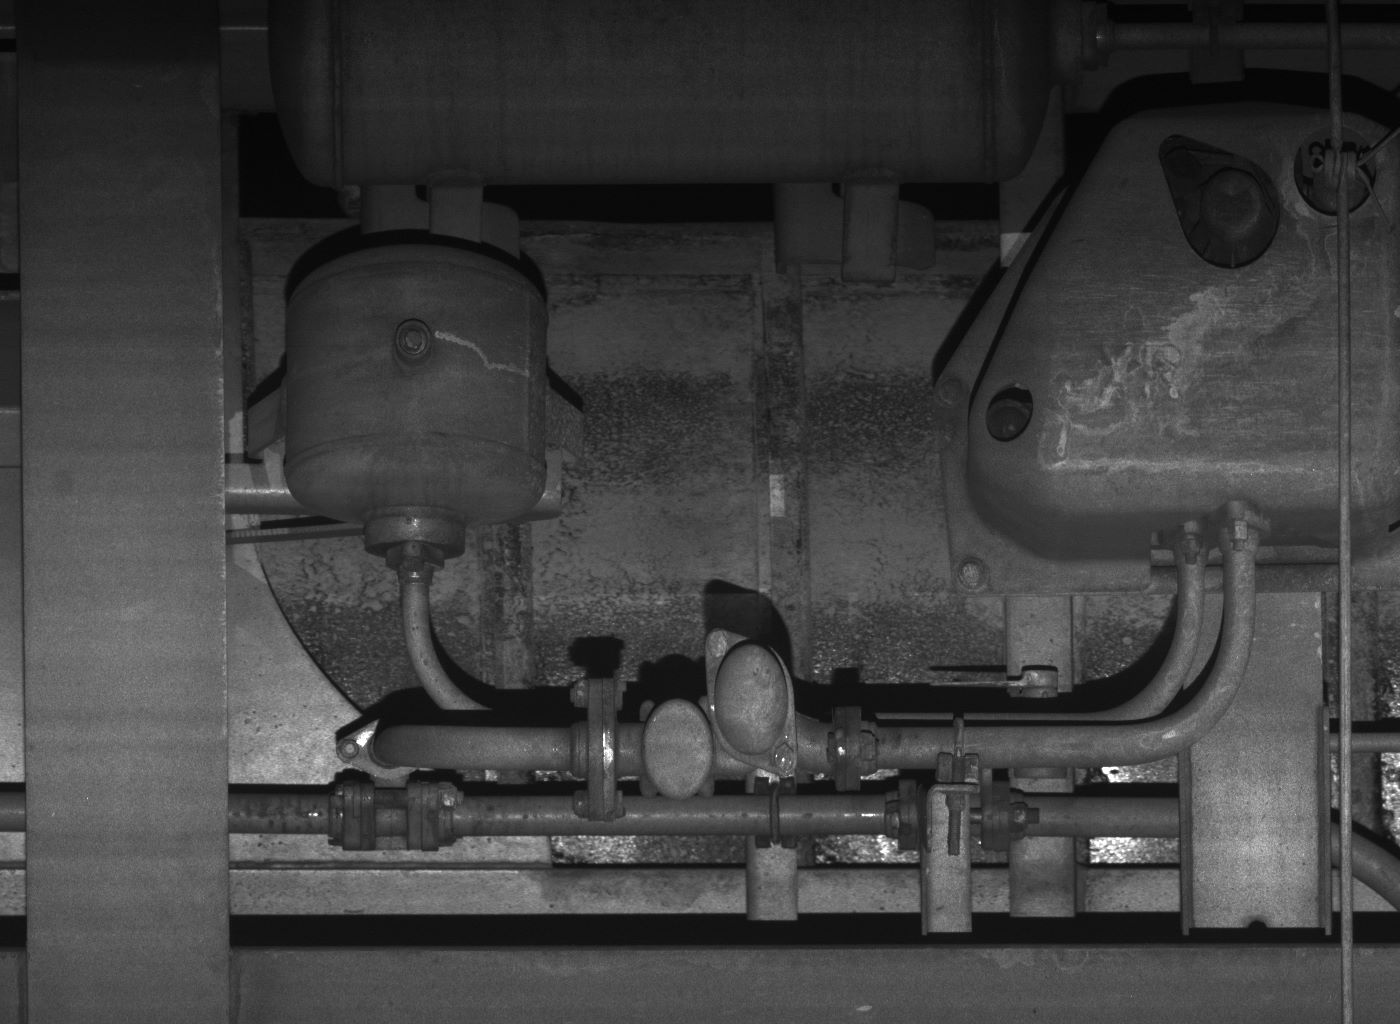normal: (637, 696, 717, 797)
